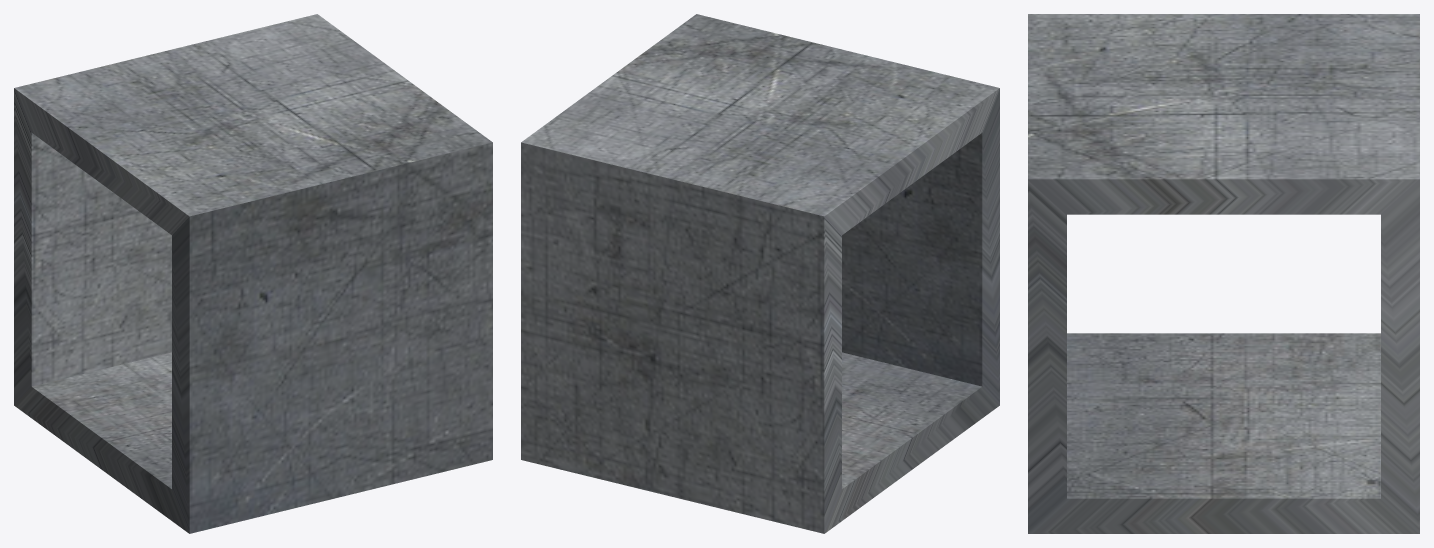
Rendered from TheOuterLevel.fbx_3x3_Pass.fbx.
The picture shows the model from 3 angles, left to right: view 1: azimuth 30°, elevation 25°; view 2: azimuth 150°, elevation 25°; view 3: azimuth 270°, elevation 25°; orthographic projection. The views are drawn at different scales.
Visible parts, largest first — view 1: 3x3_Pass; view 2: 3x3_Pass; view 3: 3x3_Pass.
Boxes of the visible parts, bbox=[...] form: 3x3_Pass: bbox=[14, 14, 492, 533]; 3x3_Pass: bbox=[521, 14, 999, 533]; 3x3_Pass: bbox=[1028, 14, 1419, 533].
Bounding box in the file's own units: 300 × 300 × 300.
Materials: 1 (1 with a texture image).
